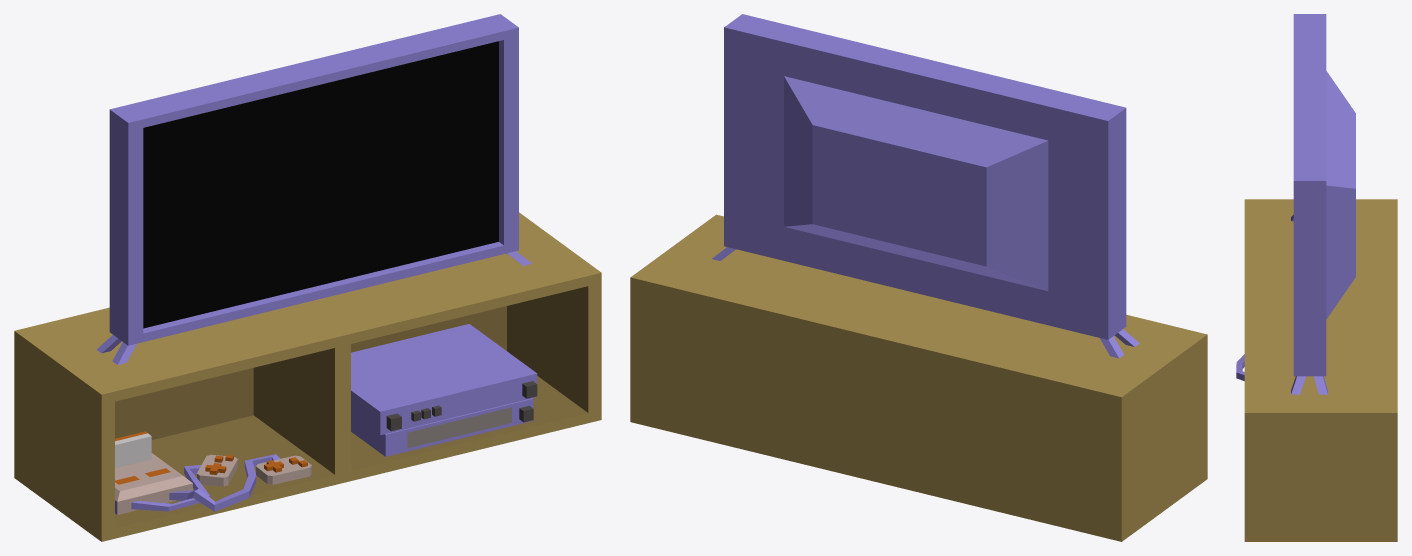
The picture shows the model from 3 angles, left to right: view 1: azimuth 30°, elevation 25°; view 2: azimuth 150°, elevation 25°; view 3: azimuth 270°, elevation 25°; orthographic projection. The views are drawn at different scales.
Visible parts, largest first — view 1: Cube; view 2: Cube; view 3: Cube.
Part boxes in pixels (left/top/right/bottom): Cube: left=14, top=14, right=601, bottom=541; Cube: left=630, top=14, right=1207, bottom=541; Cube: left=1236, top=14, right=1397, bottom=541.
Bounding box in the file's own units: 3.55 × 2.62 × 1.13.
